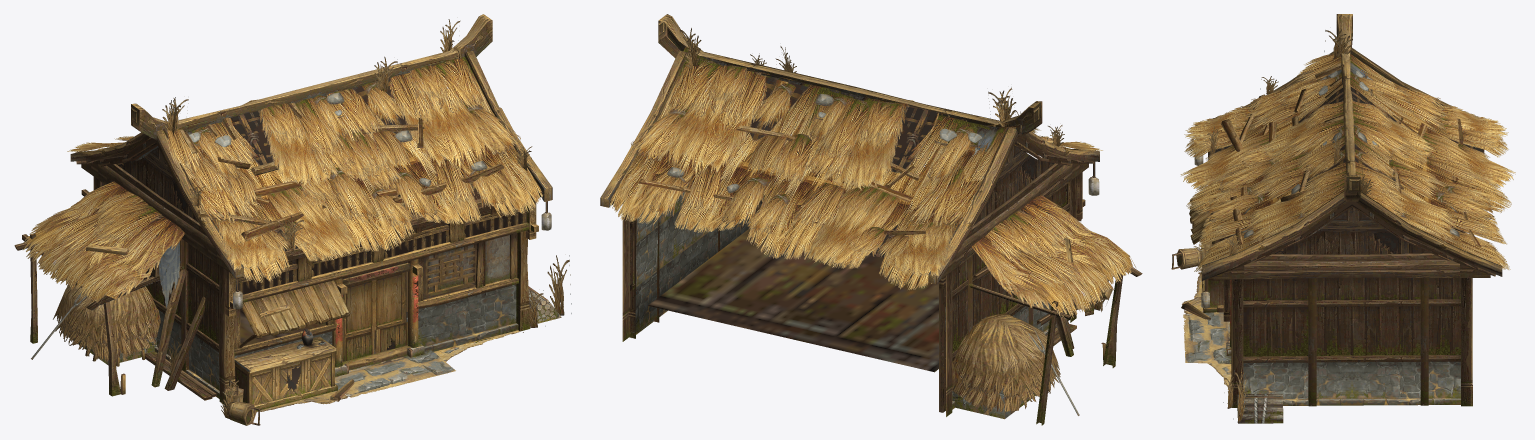
The model's file is Item_3002_jianzhu_caofang01.FBX.
3 views of the same model, side by side, from view 1: azimuth 30°, elevation 25°; view 2: azimuth 150°, elevation 25°; view 3: azimuth 270°, elevation 25° (orthographic). The views are drawn at different scales.
Parts seen in each view (by area): view 1: Item_3002_jianzhu_caofang01; view 2: Item_3002_jianzhu_caofang01; view 3: Item_3002_jianzhu_caofang01.
Boxes of the visible parts, x1=… form: Item_3002_jianzhu_caofang01: x1=14, y1=14, x2=571, y2=425; Item_3002_jianzhu_caofang01: x1=600, y1=14, x2=1142, y2=425; Item_3002_jianzhu_caofang01: x1=1171, y1=14, x2=1515, y2=423.
Size of the model in its own units: 1144 by 819 by 638.
